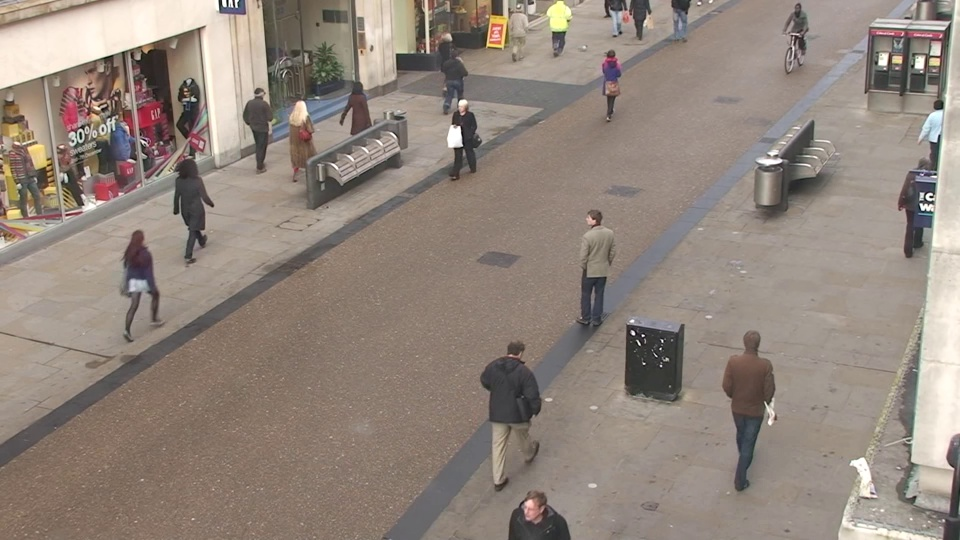pedestrian: (722, 323, 775, 473), (491, 330, 539, 481), (117, 225, 169, 347), (575, 203, 613, 324), (170, 157, 213, 261), (910, 95, 956, 190), (505, 478, 564, 540), (286, 96, 319, 185), (245, 82, 278, 167), (449, 95, 480, 185), (343, 78, 373, 163), (441, 46, 468, 121), (598, 47, 623, 123), (783, 0, 810, 67), (432, 31, 457, 102), (507, 0, 530, 64)
